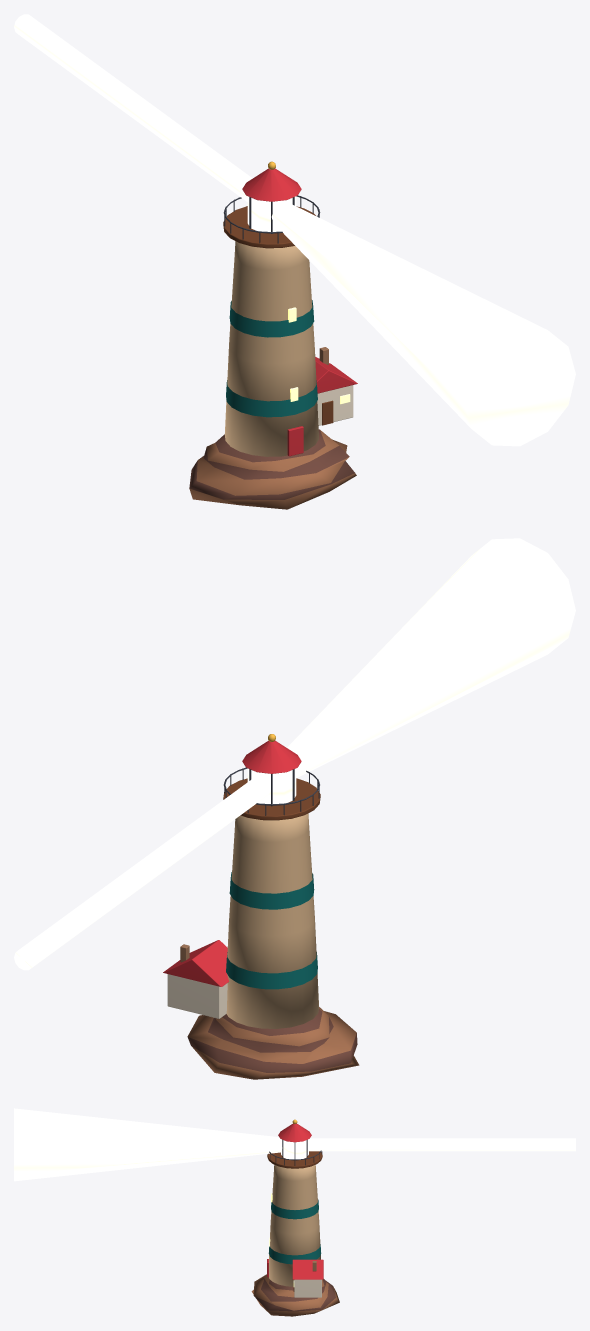
File: cove_lighthouse.glb
The picture shows the model from 3 angles, top to bottom: view 1: azimuth 30°, elevation 25°; view 2: azimuth 150°, elevation 25°; view 3: azimuth 270°, elevation 25°; orthographic projection. The views are drawn at different scales.
Parts seen in each view (by area): view 1: Beam, Lighthouse; view 2: Beam, Lighthouse; view 3: Beam, Lighthouse.
Part boxes in pixels (box(x1,y1,x2,y2)): Beam: box(14, 14, 575, 446); Lighthouse: box(189, 161, 357, 509); Beam: box(14, 538, 575, 970); Lighthouse: box(163, 734, 359, 1079); Beam: box(14, 1108, 575, 1181); Lighthouse: box(251, 1119, 339, 1316).
Bounding box in the file's own units: 13.47 × 25.2 × 69.
